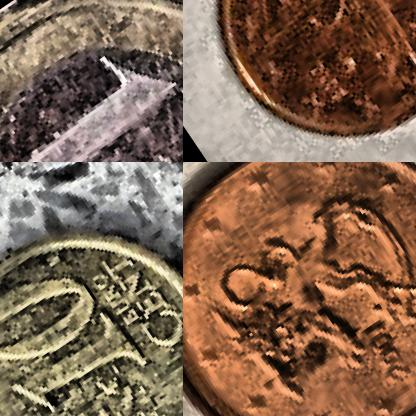coin: (183, 162, 415, 415), (0, 182, 182, 415), (183, 0, 415, 161), (0, 0, 182, 161)
